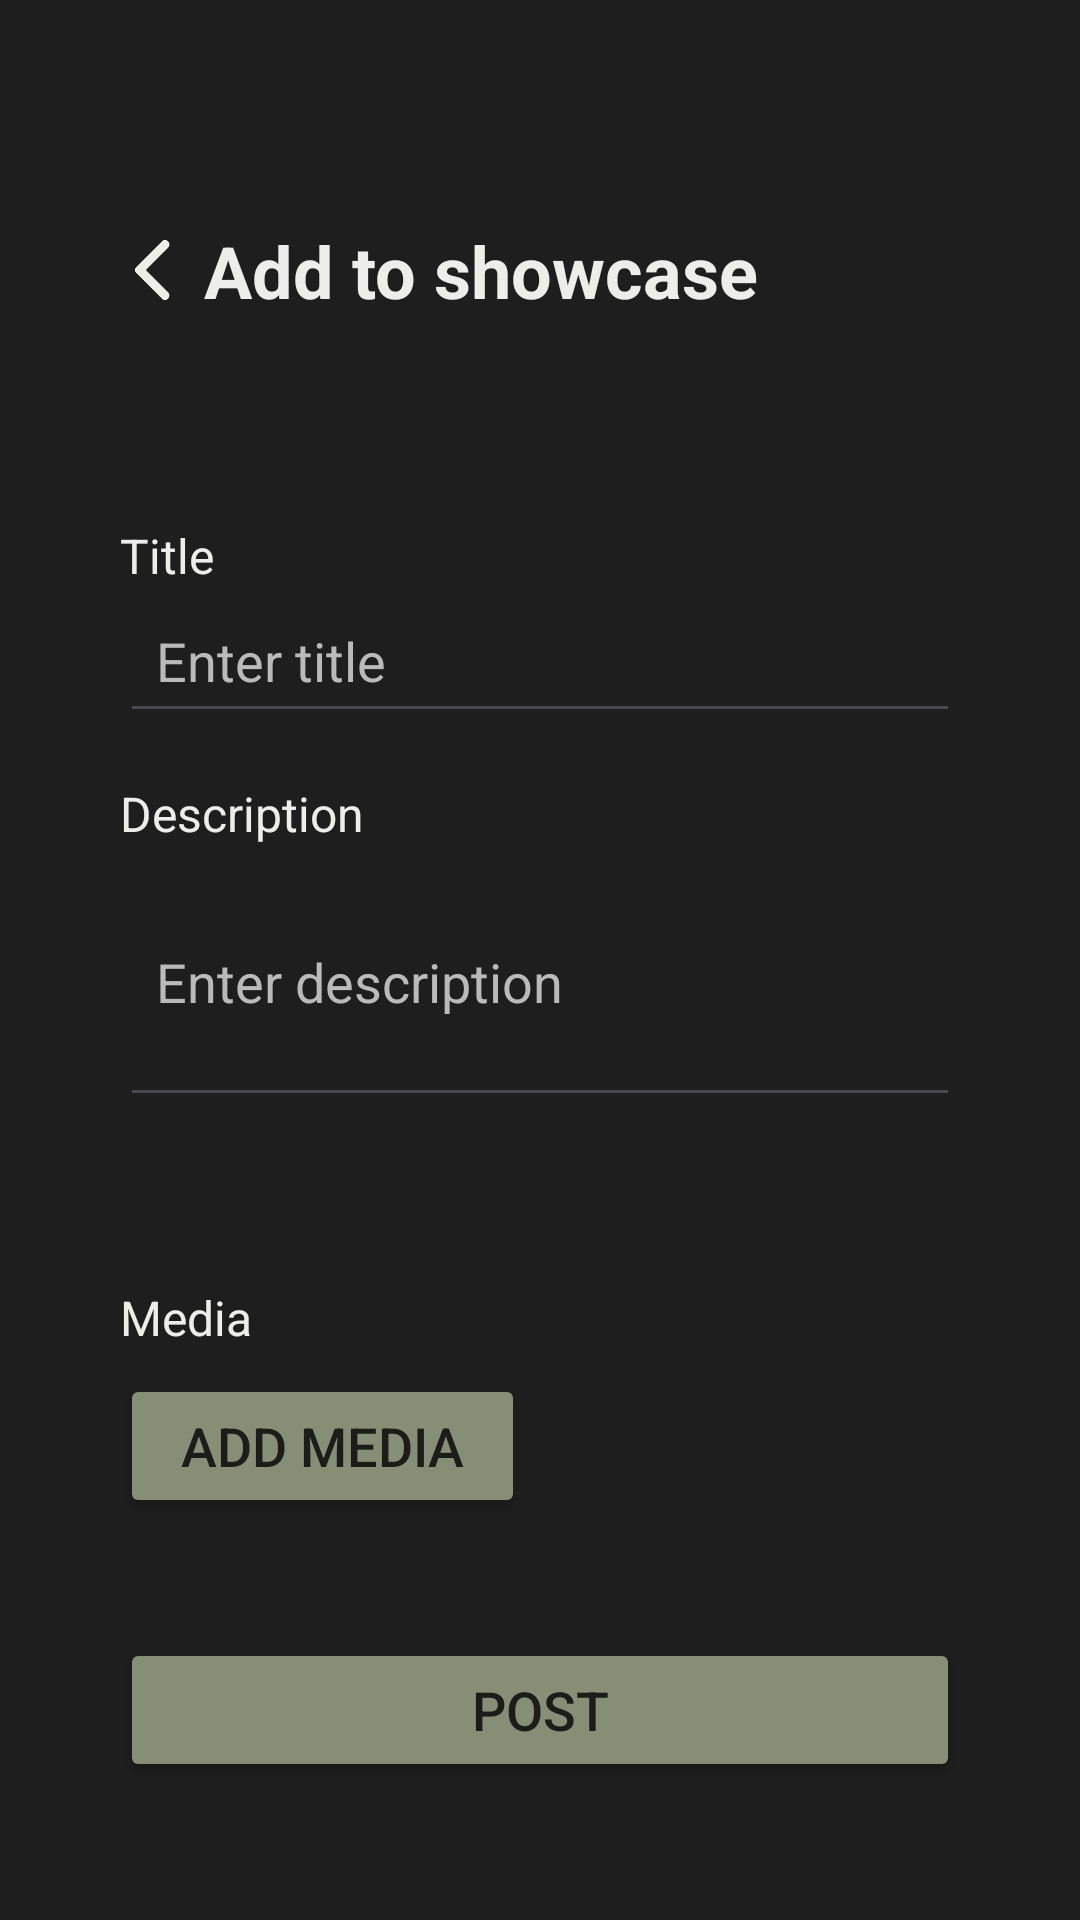

Locate icon controls on the screen. Image size 1080px x 1920px, boxes as (x1, y1, x2, y2).
back: (135, 240, 170, 300)
